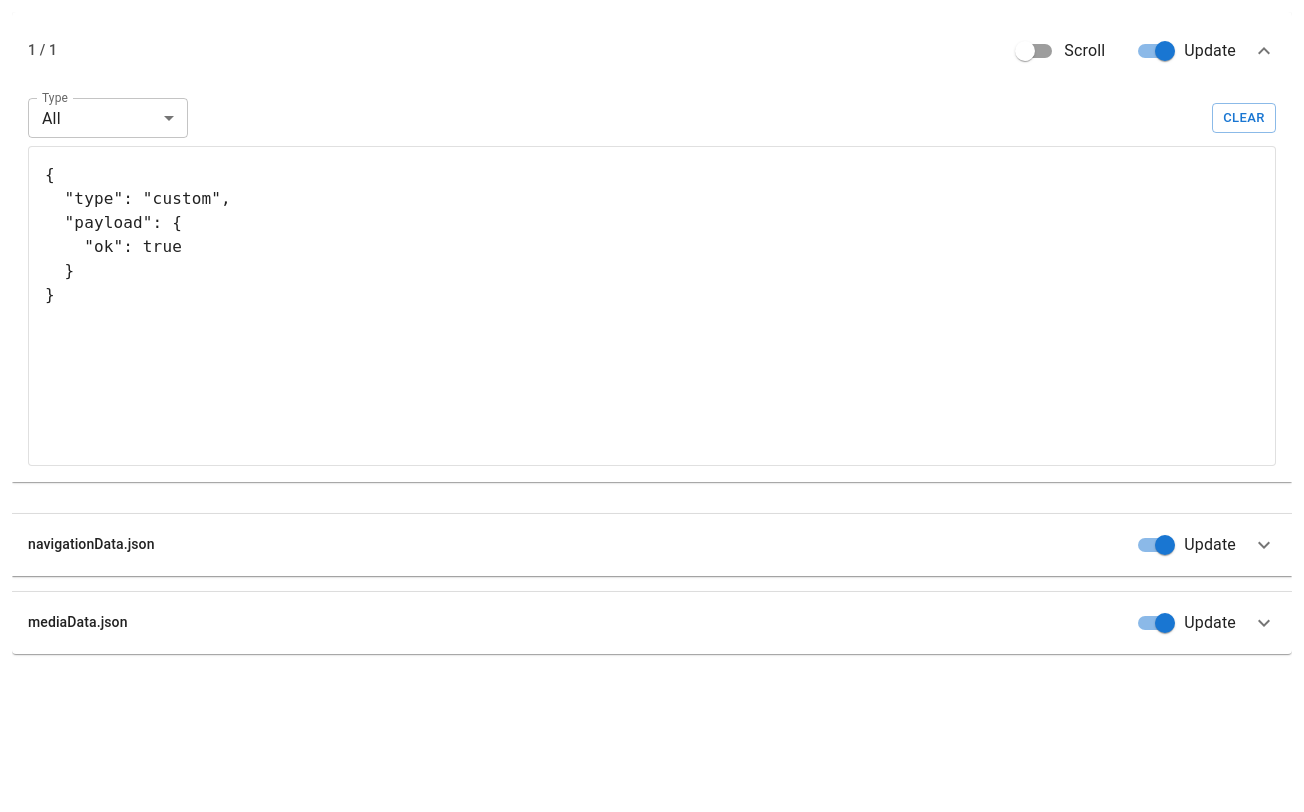
Debug page › clear button resets live events list
The image size is (1304, 812).
Expected: the text "No events yet." is not shown
Click the button "Clear". click: (1244,118)
box: x1=1212 y1=103 x2=1276 y2=133
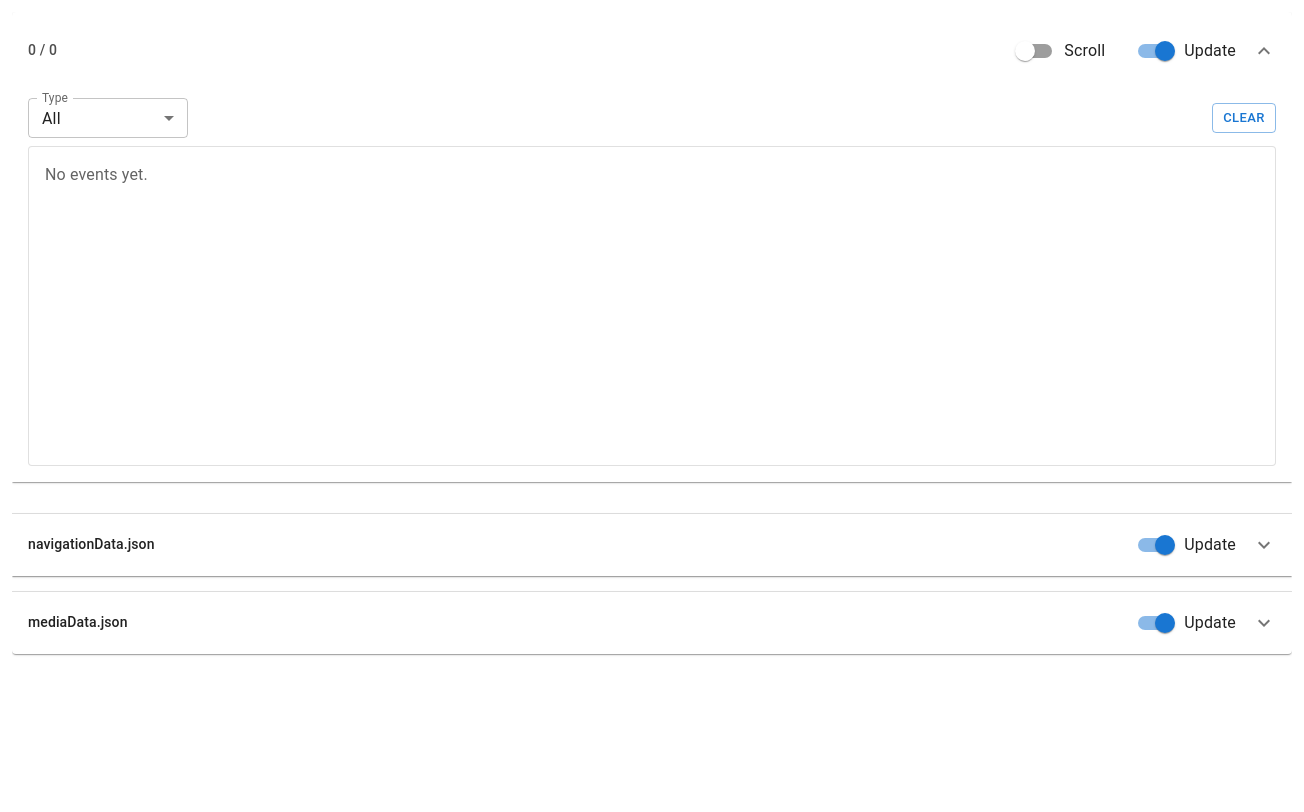
Now the text "No events yet." is shown, box x1=45 y1=165 x2=148 y2=184
